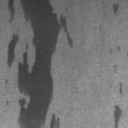red iron: (6, 0, 74, 128), (114, 104, 123, 128), (8, 0, 14, 22), (109, 46, 122, 53), (112, 3, 119, 14), (118, 82, 123, 94), (114, 64, 117, 72), (4, 78, 8, 84), (6, 99, 10, 105)
